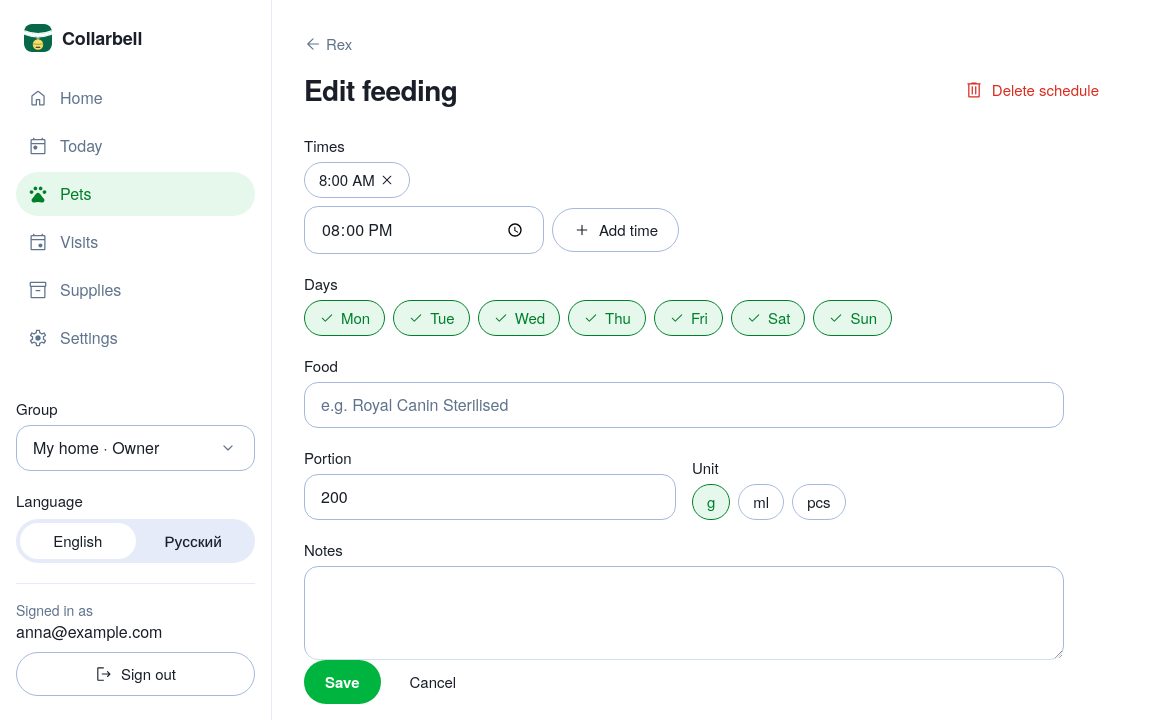
Test: the Feeding tab › deletes a schedule after asking; shows the server's refusal under its field
Click the button "Save" at (342,682), box [304,660,380,704]
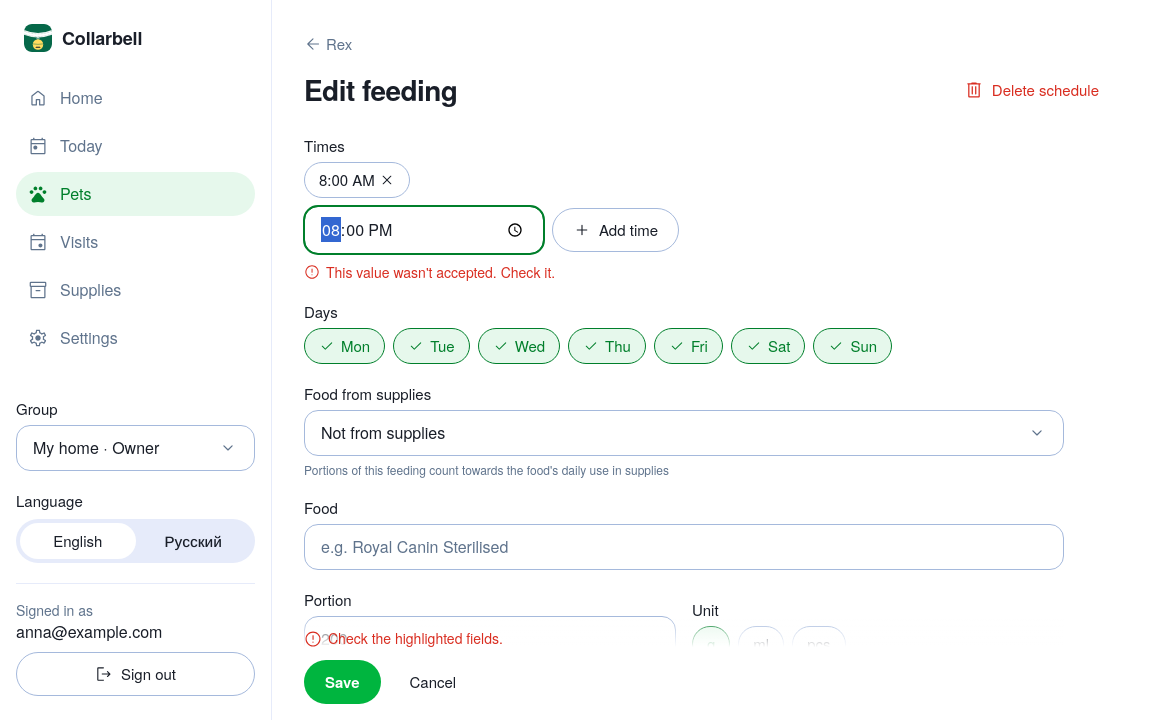
Expected: the text "This value wasn't accepted. Check it." is shown, [304,262,555,282]
Click the button "Delete schedule" at (1031,90), box [943,68,1120,112]
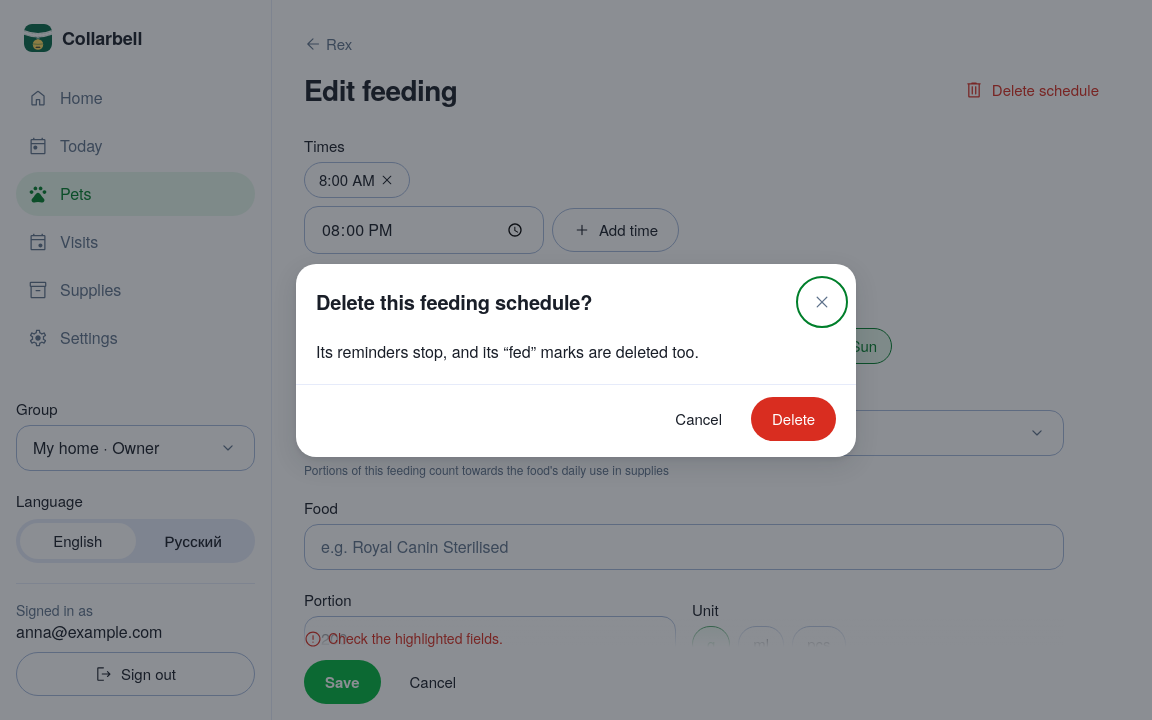
Click the button "Delete" at (794,418), box [751,396,836,440]
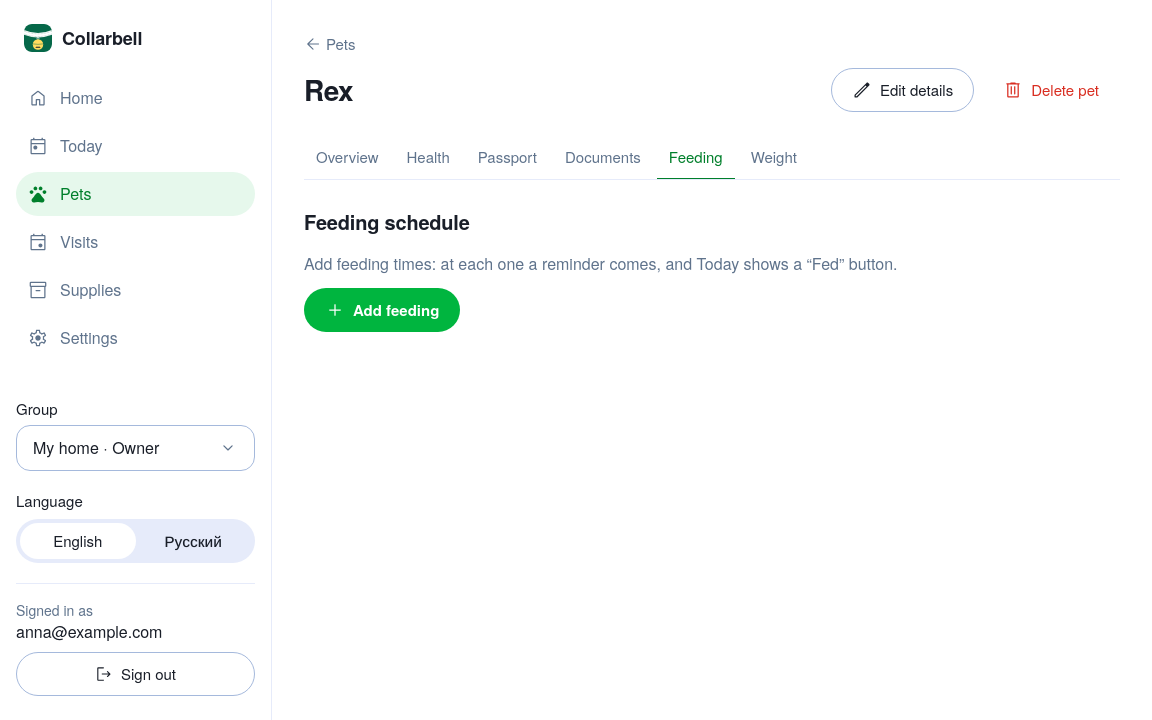
Expected: the text "Add feeding times" is shown, [304,252,898,275]
